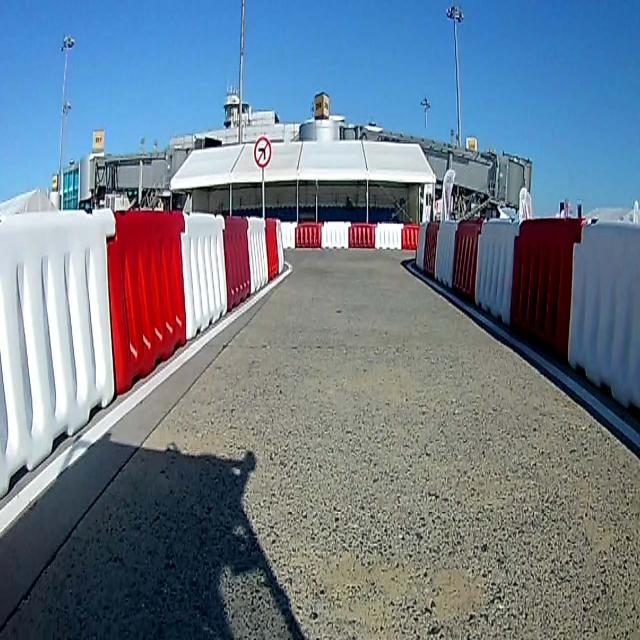soladonulmez: (254, 134, 272, 168)
